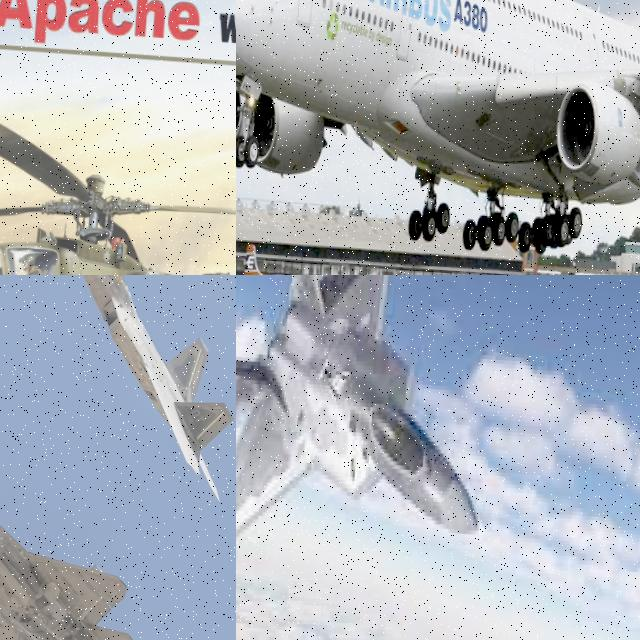A380: (236, 0, 640, 271)
Apache: (0, 107, 236, 275)
F22: (236, 275, 502, 560), (50, 275, 236, 510), (0, 471, 149, 640)
